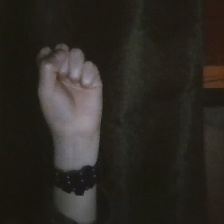S: (29, 37, 112, 147)
